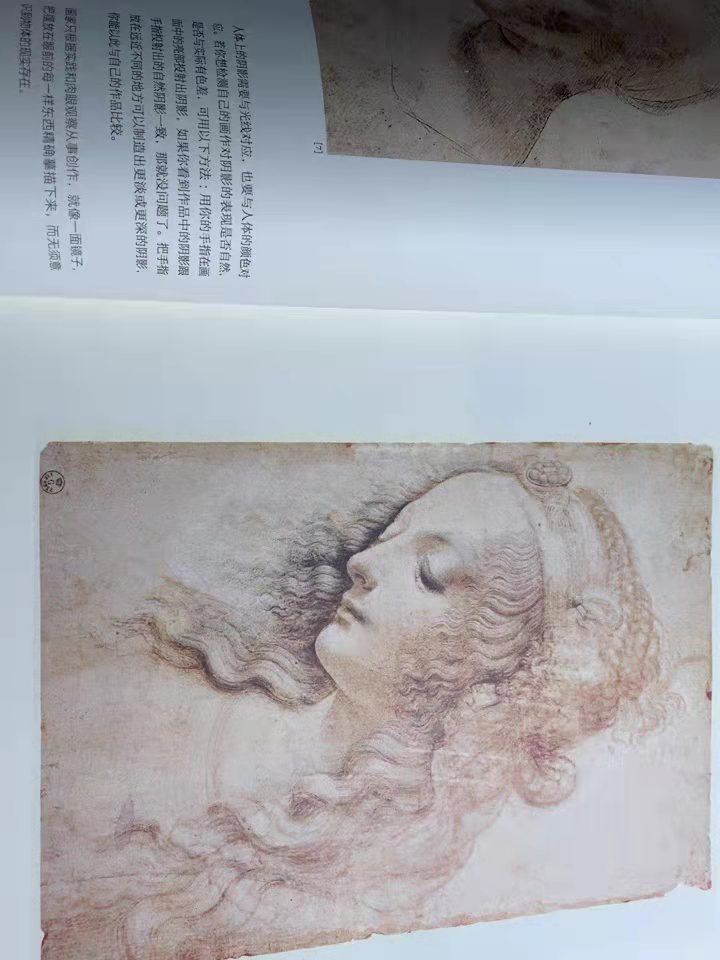book: (4, 7, 716, 960)
